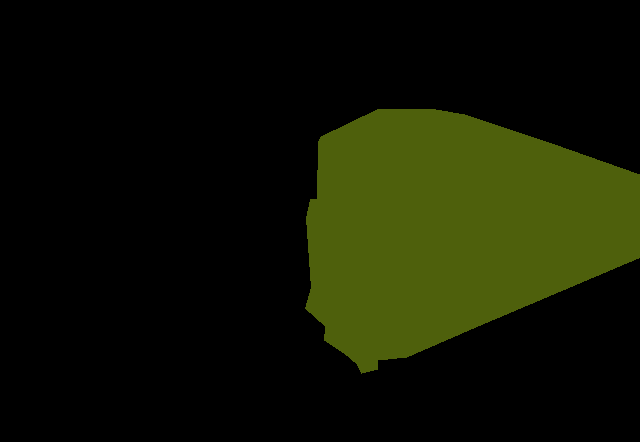Train: (305, 109, 640, 374)
